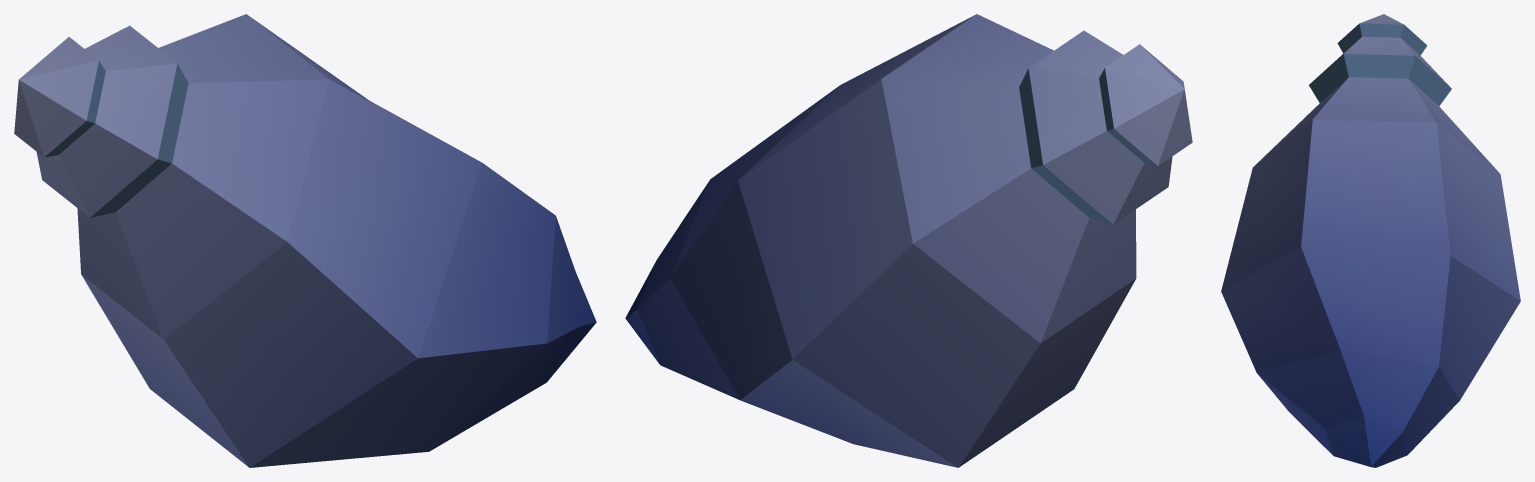
File: shell_purple.fbx
3 renders of one model, left to right at view 1: azimuth 30°, elevation 25°; view 2: azimuth 150°, elevation 25°; view 3: azimuth 270°, elevation 25°, orthographic. The views are drawn at different scales.
Parts seen in each view (by area): view 1: shell_purple; view 2: shell_purple; view 3: shell_purple.
Boxes of the visible parts, bbox=[...] form: shell_purple: bbox=[14, 14, 596, 467]; shell_purple: bbox=[625, 14, 1192, 467]; shell_purple: bbox=[1221, 14, 1520, 467].
Size of the model in its own units: 0.3608 by 0.271 by 0.237.
